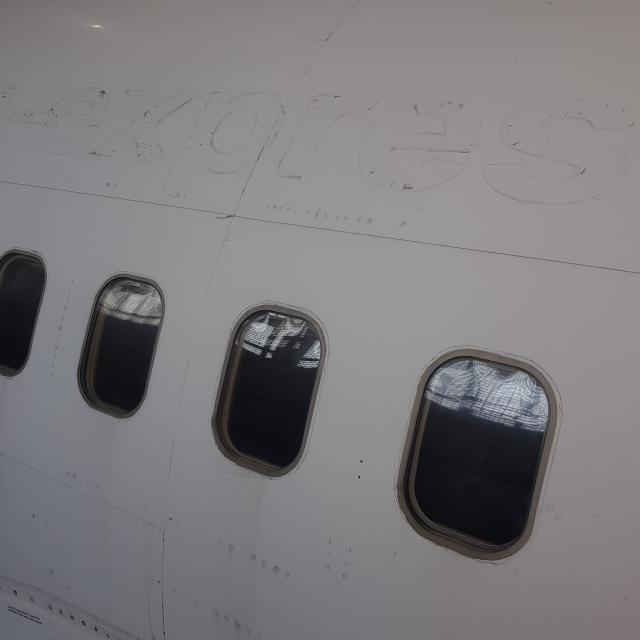crack: (212, 212, 238, 225)
